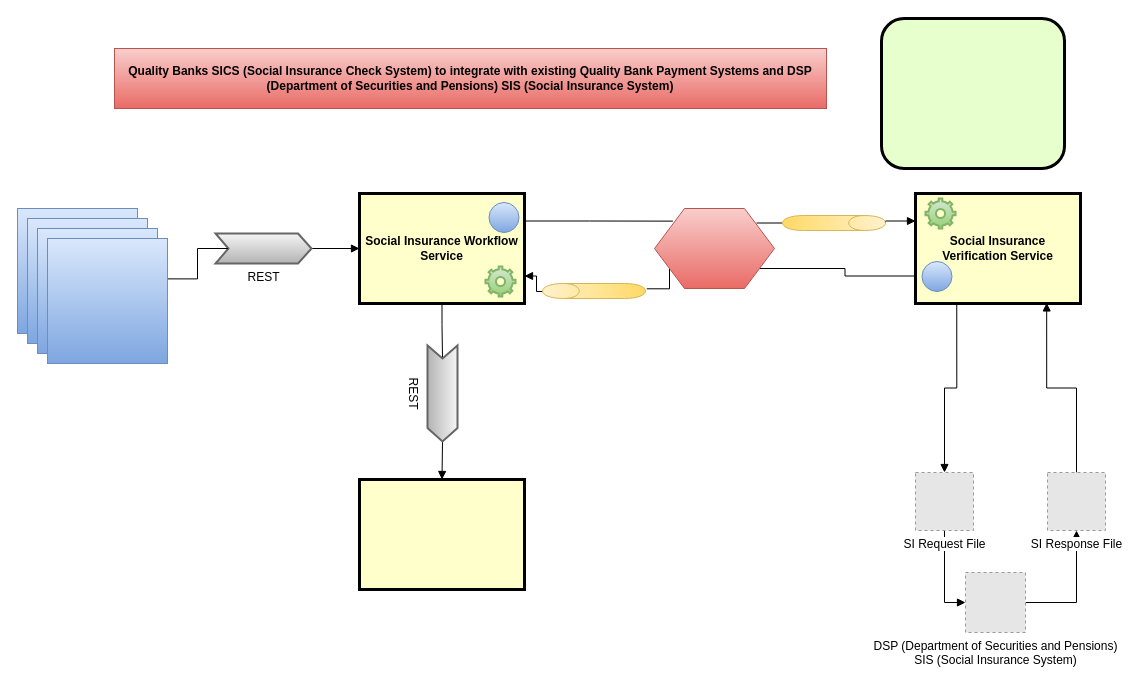
The diagram is 1139 pixels wide and 686 high, and some of its shapes have lost their labels. Grey dashed boxes stand in for pictures. Each missing label, with the centre of its shape:
"Customer Service" belongs at [442,534].
"Legend System Analysis" belongs at [973,93].
"Payment Verification Systems (Existing)" belongs at [107,301].
"SI Exchange" belongs at [714,248].
